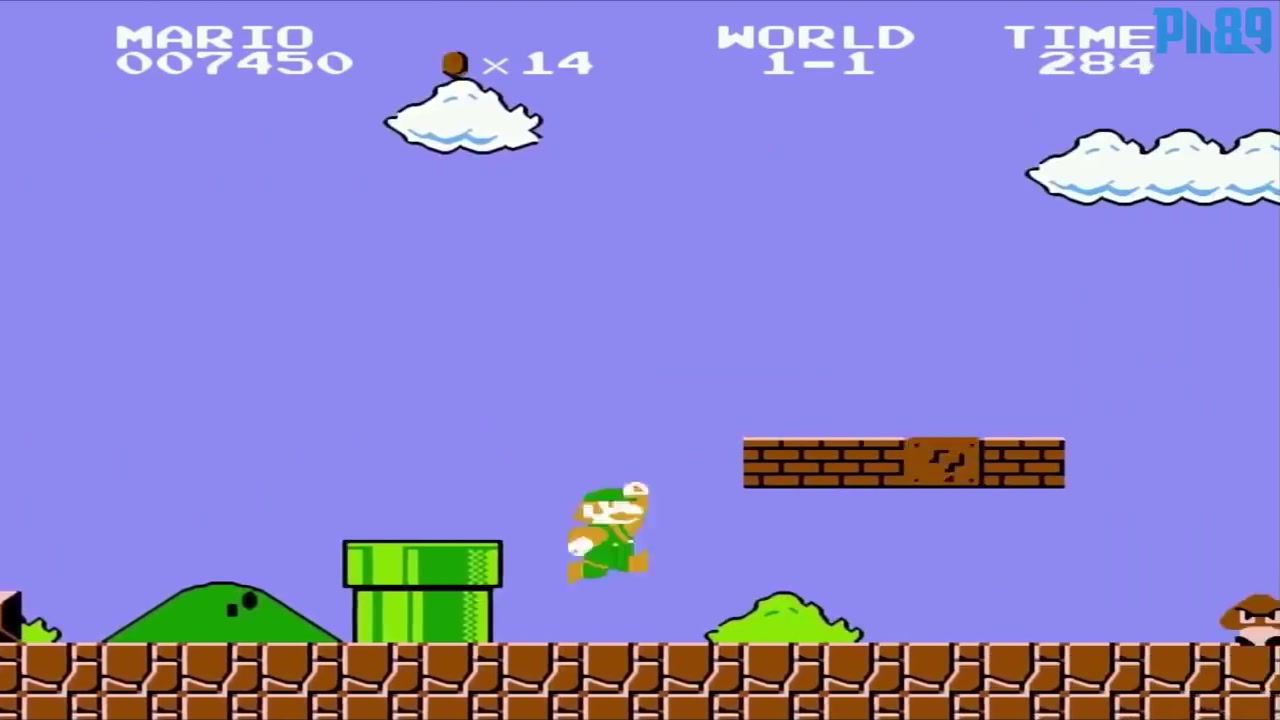mario: (562, 477, 661, 583)
